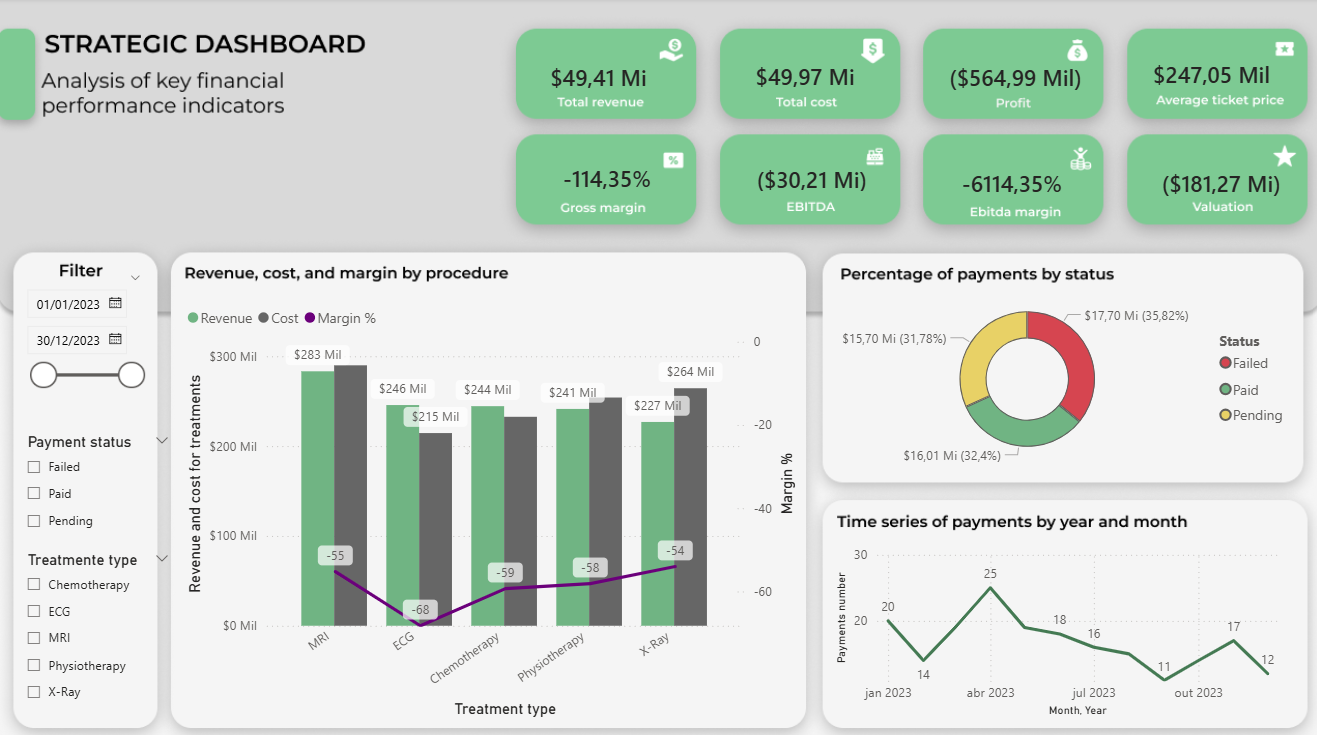

Layout of this report page (visuals, bound fields, positions):
{"tool":"powerbi","page":{"name":"Strategic","canvas":[1280,720],"ordinal":1},"visuals":[{"type":"cardVisual","fields":{"Data":["billing.Receita Total"]},"box":[509.1,50.7,141.2,39.8],"z":0},{"type":"cardVisual","fields":{"Data":["billing.Ticket Médio"]},"box":[909.1,51.3,166.3,47.8],"z":1000},{"type":"cardVisual","fields":{"Data":["treatments.Custo Total"]},"box":[703.4,50.7,142.4,39.8],"z":2000},{"type":"cardVisual","fields":{"Data":["billing.Margem"]},"box":[1094.8,51.3,170.9,41],"z":3000},{"type":"cardVisual","fields":{"Data":["billing.Margem EBITDA"]},"box":[909.1,145.8,157.2,62.7],"z":4000},{"type":"lineClusteredColumnComboChart","fields":{"Category":["treatments.treatment_type"],"Y":["billing.Receita_Procedimento","treatments.Custo_Procedimento"],"Y2":["billing.Margem %"]},"box":[177.7,288.2,597,411.3],"z":5000},{"type":"donutChart","fields":{"Category":["billing.payment_status"],"Y":["Sum(billing.amount)"]},"box":[803.5,278.7,451.2,178.6],"z":6000},{"type":"lineChart","fields":{"Category":["billing.bill_date.Variation.Hierarquia de datas.Ano","billing.bill_date.Variation.Hierarquia de datas.Mês"],"Y":["CountNonNull(billing.payment_status)"]},"box":[803.5,523.6,451.2,174.9],"z":7000},{"type":"slicer","fields":{"Values":["billing.payment_status"]},"box":[15.9,414.7,161.8,109.4],"z":8000},{"type":"cardVisual","fields":{"Data":["billing.Margin %"]},"box":[528.6,152.7,121.9,39.9],"z":9000},{"type":"cardVisual","fields":{"Data":["billing.Valuation"]},"box":[1106.2,152.7,159.5,49],"z":10000},{"type":"cardVisual","fields":{"Data":["billing.EBITDA"]},"box":[714.3,152.7,153.8,39.9],"z":11000},{"type":"slicer","fields":{"Values":["treatments.treatment_type"]},"box":[15.9,528.6,161.8,162.9],"z":12000},{"type":"slicer","fields":{"Values":["treatments.treatment_date"]},"box":[15.9,263.2,134.4,139],"z":13000}]}

Visuals, with their boxes in screenshot pixels (x1, y1, x2, y2), scaled from the page's 1280x720 canvas onto the 1317x735 screenshot:
cardVisual - billing.Receita Total: bbox=[524, 52, 669, 92]
cardVisual - billing.Ticket Médio: bbox=[935, 52, 1106, 101]
cardVisual - treatments.Custo Total: bbox=[724, 52, 870, 92]
cardVisual - billing.Margem: bbox=[1126, 52, 1302, 94]
cardVisual - billing.Margem EBITDA: bbox=[935, 149, 1097, 213]
lineClusteredColumnComboChart - treatments.treatment_type x billing.Receita_Procedimento: bbox=[183, 294, 797, 714]
donutChart - billing.payment_status x Sum(billing.amount): bbox=[827, 285, 1291, 467]
lineChart - billing.bill_date.Variation.Hierarquia de datas.Ano x billing.bill_date.Variation.Hierarquia de datas.Mês: bbox=[827, 535, 1291, 713]
slicer - billing.payment_status: bbox=[16, 423, 183, 535]
cardVisual - billing.Margin %: bbox=[544, 156, 669, 197]
cardVisual - billing.Valuation: bbox=[1138, 156, 1302, 206]
cardVisual - billing.EBITDA: bbox=[735, 156, 893, 197]
slicer - treatments.treatment_type: bbox=[16, 540, 183, 706]
slicer - treatments.treatment_date: bbox=[16, 269, 155, 411]
